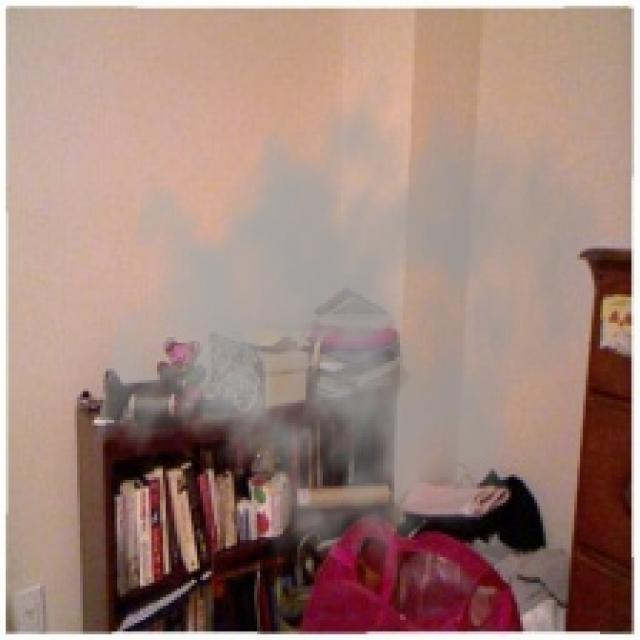smoke: (94, 43, 609, 583)
